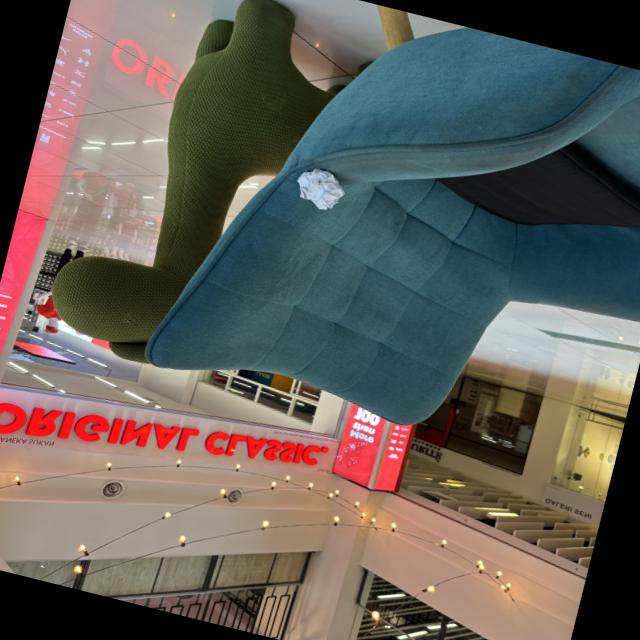crumpled_paper: (288, 160, 353, 220)
